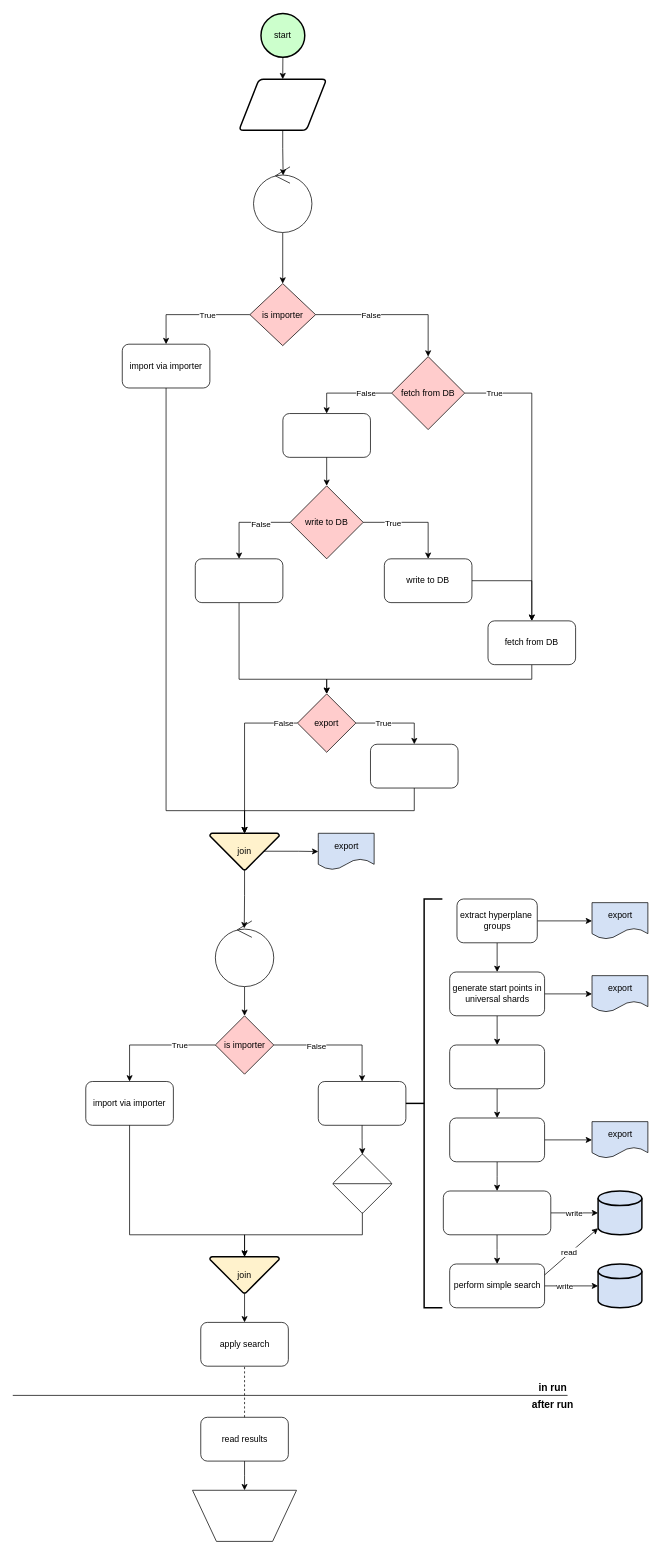
The diagram is 661 pixels wide and 1554 high, and some of its shapes have lost their labels. Here are the shapes that lost their labels. From the top down, the box of each, then its label:
(238, 78, 327, 131): - constants - databases - analyzers - searchers
(253, 166, 312, 233): for each DB
(282, 413, 370, 457): read JSON
(195, 558, 283, 603): import from JSON
(370, 744, 458, 788): export to file
(215, 920, 274, 987): for each analyzer
(449, 1044, 545, 1089): generate directions from hypersphere
(318, 1081, 406, 1125): perform analysis for each (CMF, shift)
(449, 1117, 545, 1162): sort direction into HP groups
(443, 1190, 551, 1235): match direction to universal start point within the HP group subspaces
(192, 1490, 297, 1541): generate graphs + summary
